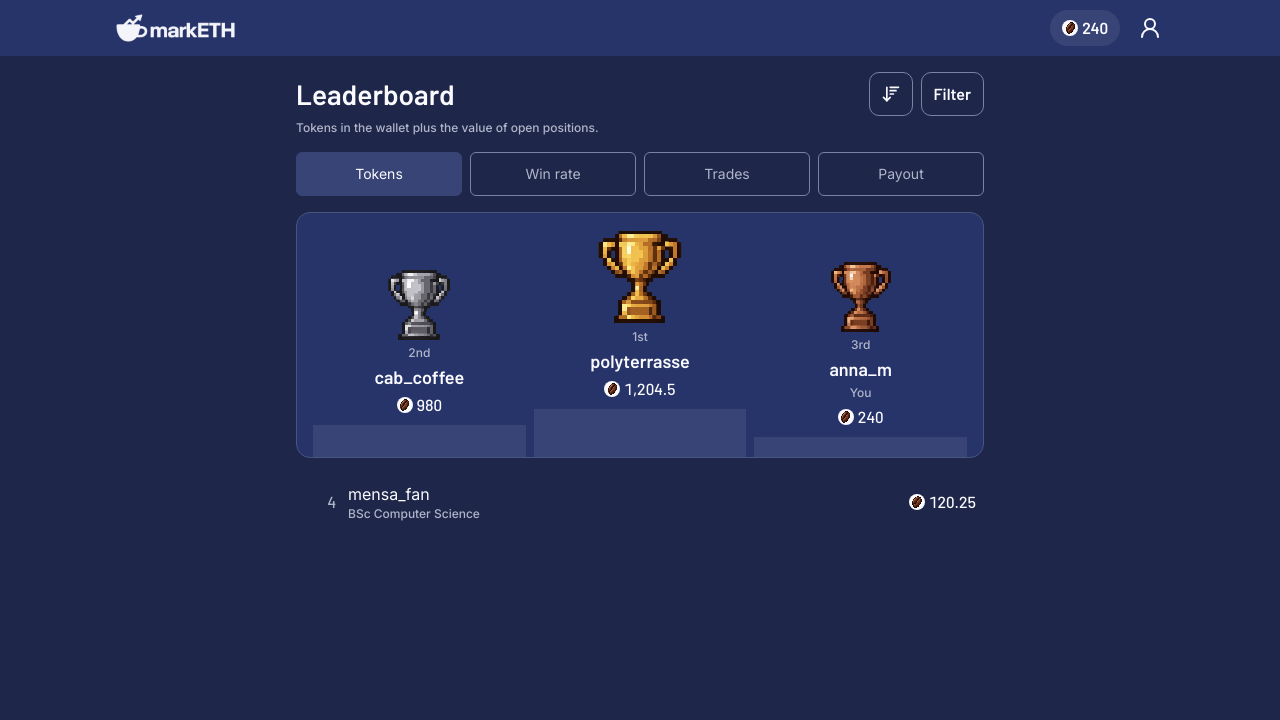
Scenario: what the sheet offers › a Level and a Programme picker from /config, then one group per measure with a From and a To field
Expected: the element that starts with "1st" is shown, [296,212,984,530]
What coordinates should you click on to do the following:
click the button "Filter"
I would click on:
 (952, 94)
Its box is [921,72,984,116].
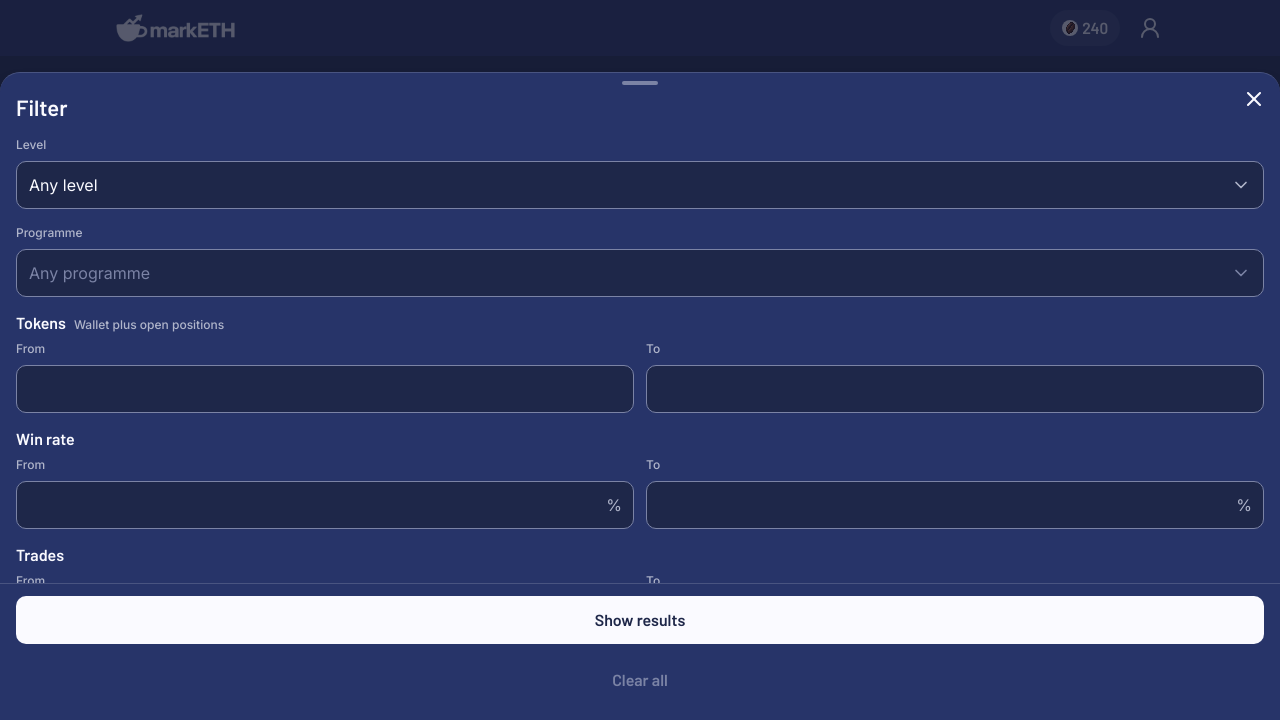
Expected: the heading "Filter" is shown, [16,94,67,120]
Expected: the button named "Close" is enabled, [1232,77,1276,121]
Expected: the button labelled "Any level" is empty
What coordinates should you click on to do the following:
click the button labelled "Any level"
I would click on:
 (63, 185)
Its box is [16,161,1264,209].
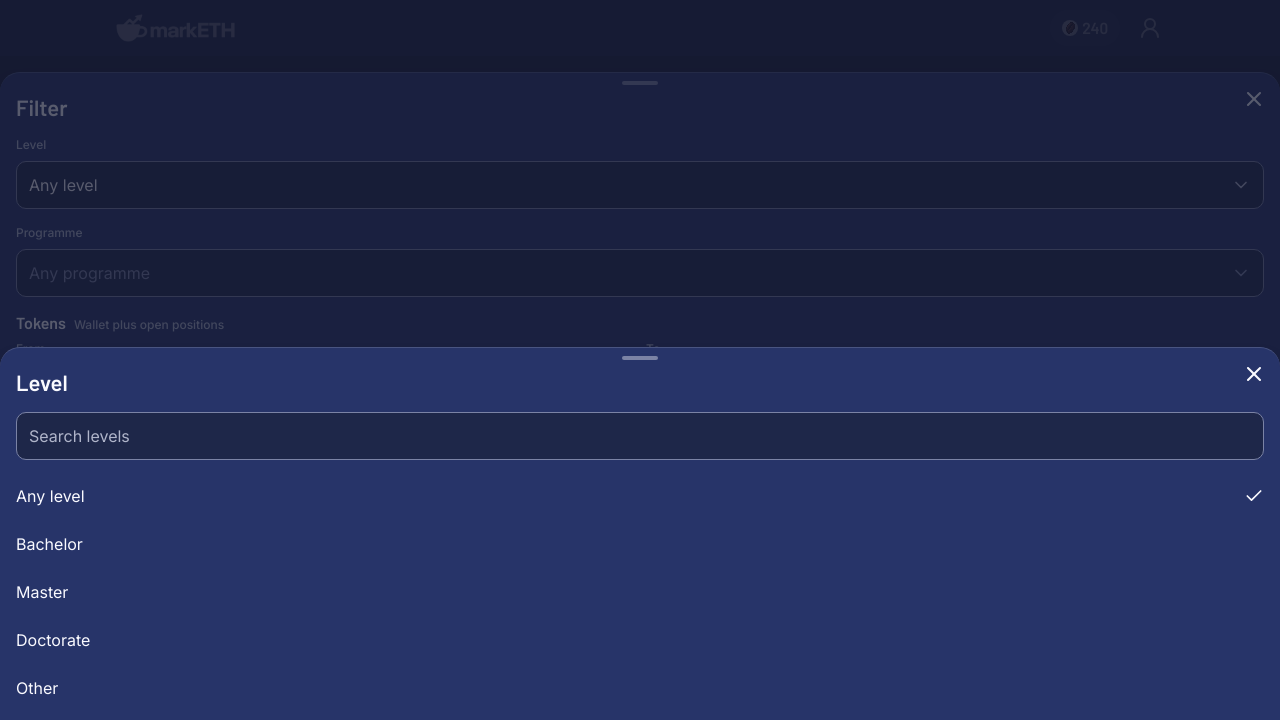
Expected: the search field labelled "Search levels" is shown, [16,412,1264,460]
